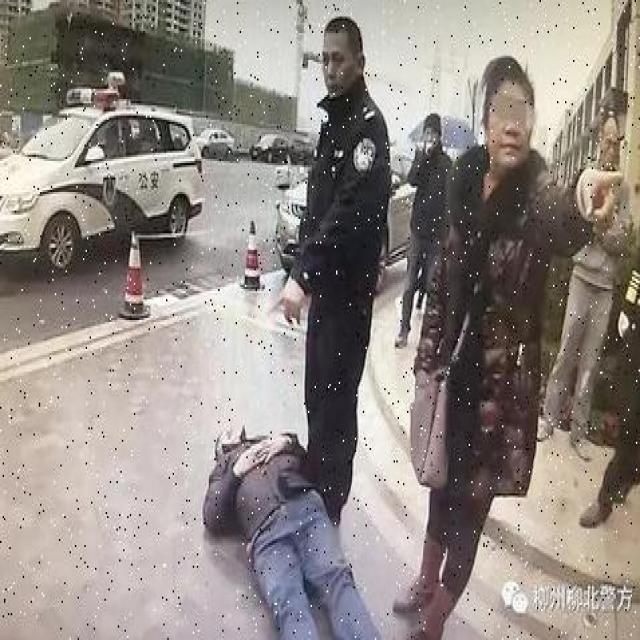fall: (202, 419, 383, 638)
